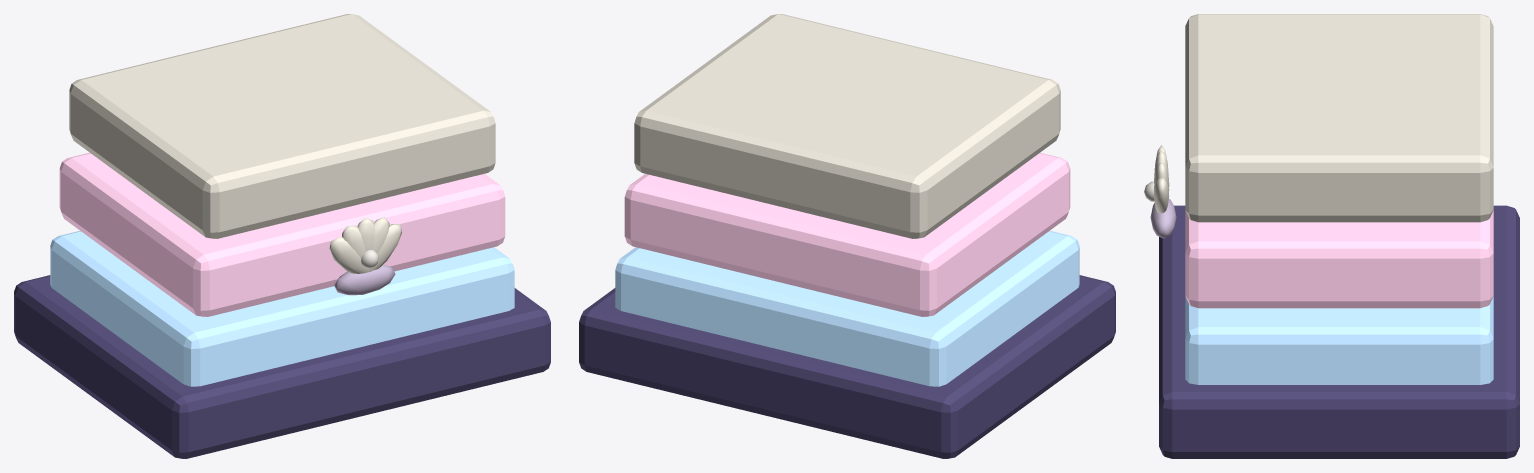
File: pearl_towel_stack.glb
3 renders of one model, left to right at view 1: azimuth 30°, elevation 25°; view 2: azimuth 150°, elevation 25°; view 3: azimuth 270°, elevation 25°, orthographic. The views are drawn at different scales.
Visible parts, largest first — view 1: pearl_towel_stack.001; view 2: pearl_towel_stack.001; view 3: pearl_towel_stack.001.
Boxes of the visible parts, x1=… form: pearl_towel_stack.001: x1=14, y1=14, x2=550, y2=458; pearl_towel_stack.001: x1=579, y1=14, x2=1115, y2=458; pearl_towel_stack.001: x1=1144, y1=14, x2=1519, y2=458.
Size of the model in its own units: 3.55 by 2.36 by 2.86.
